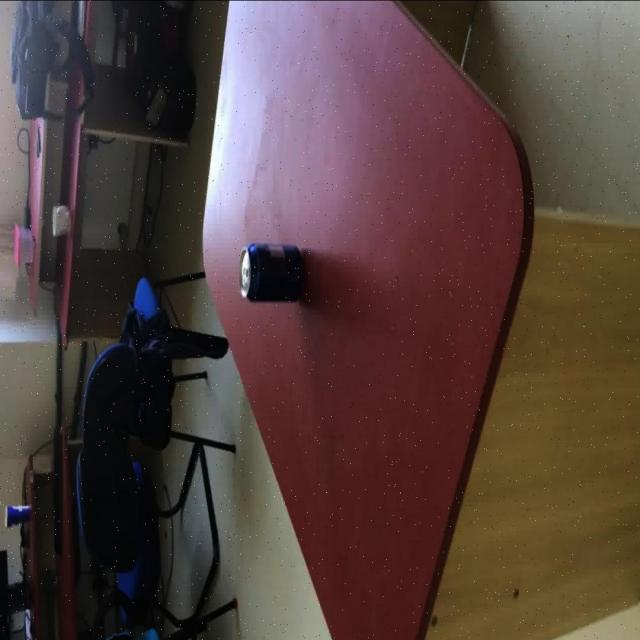Tonic: (237, 242, 302, 305), (4, 504, 30, 529)
